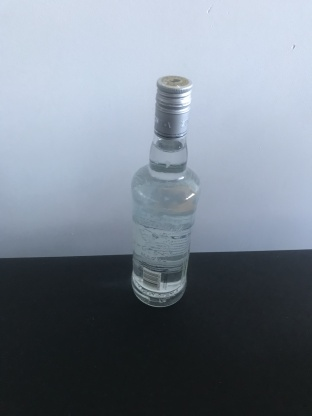nakretka: (153, 73, 193, 142)
